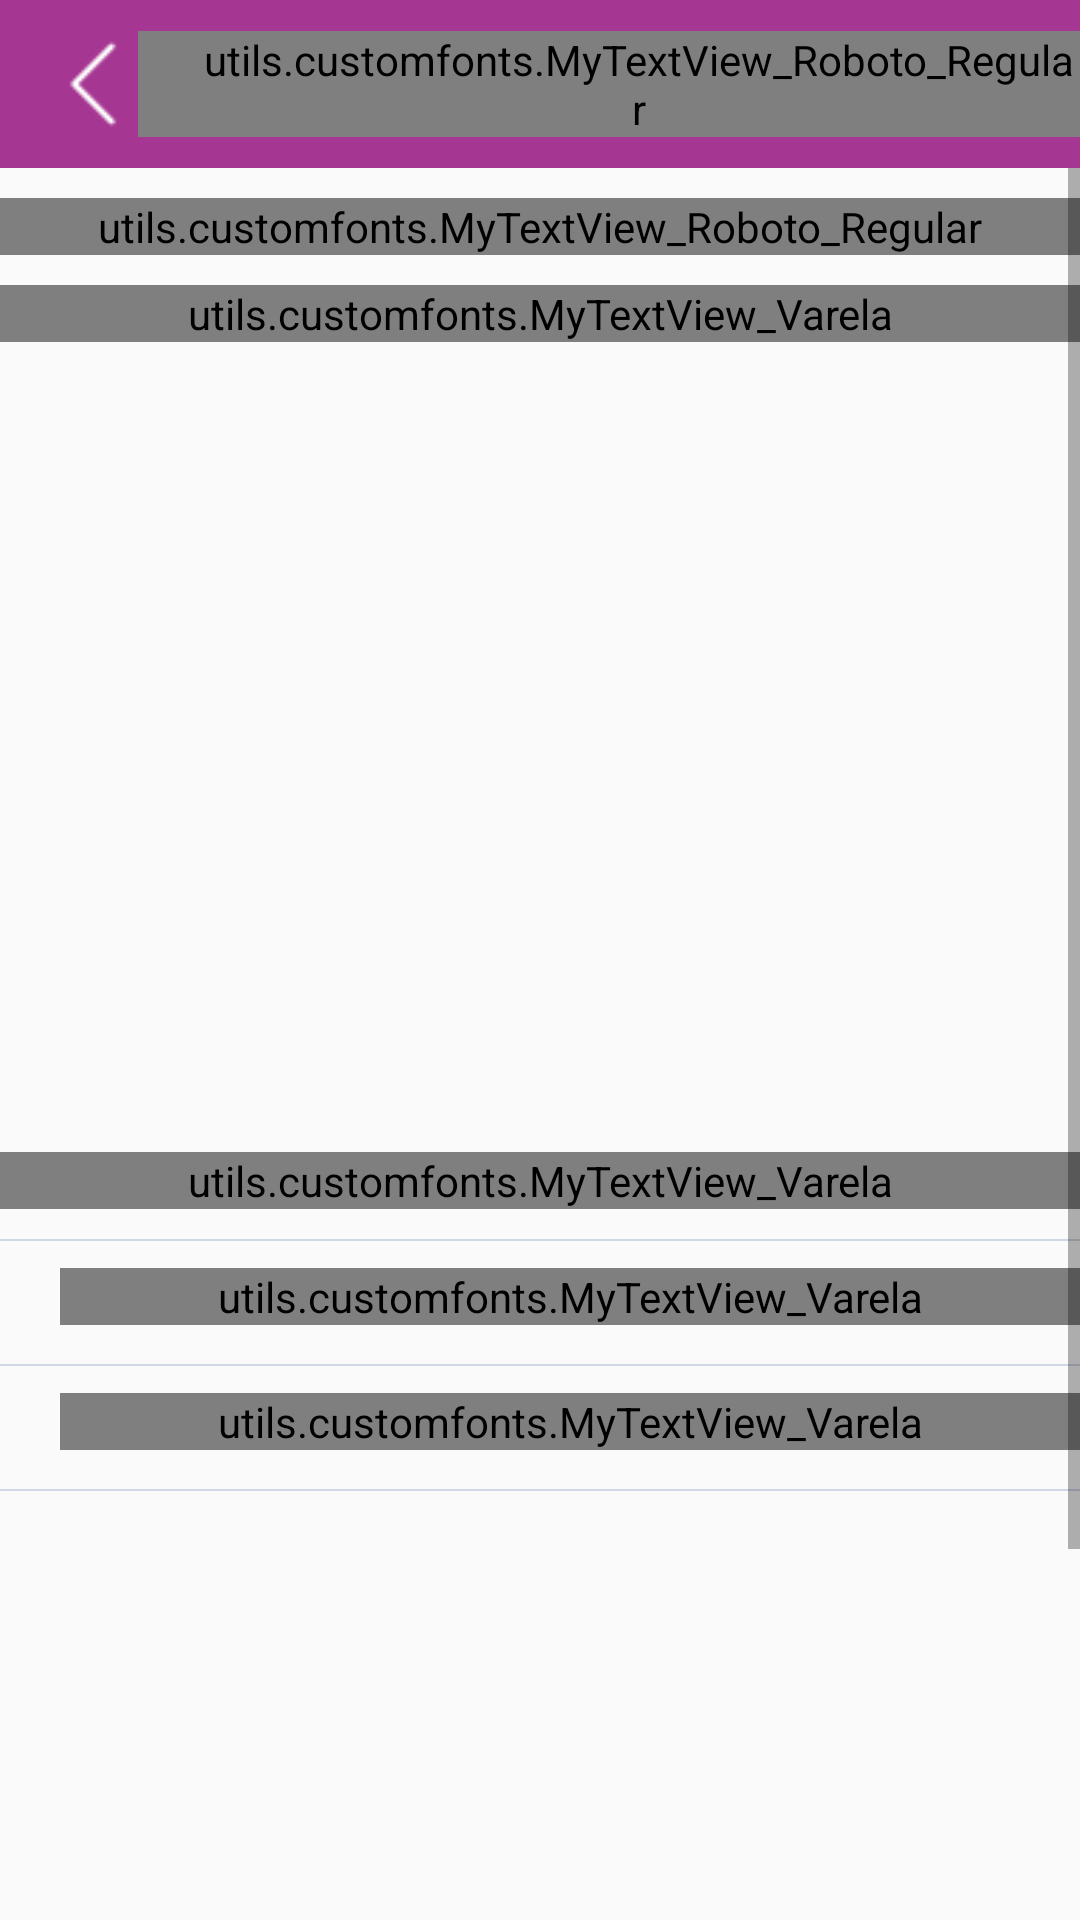

Where icons sit on this 1080px×1920px app screen, as (x1, y1, x2, y2):
left arrow: (70, 42, 116, 126)
